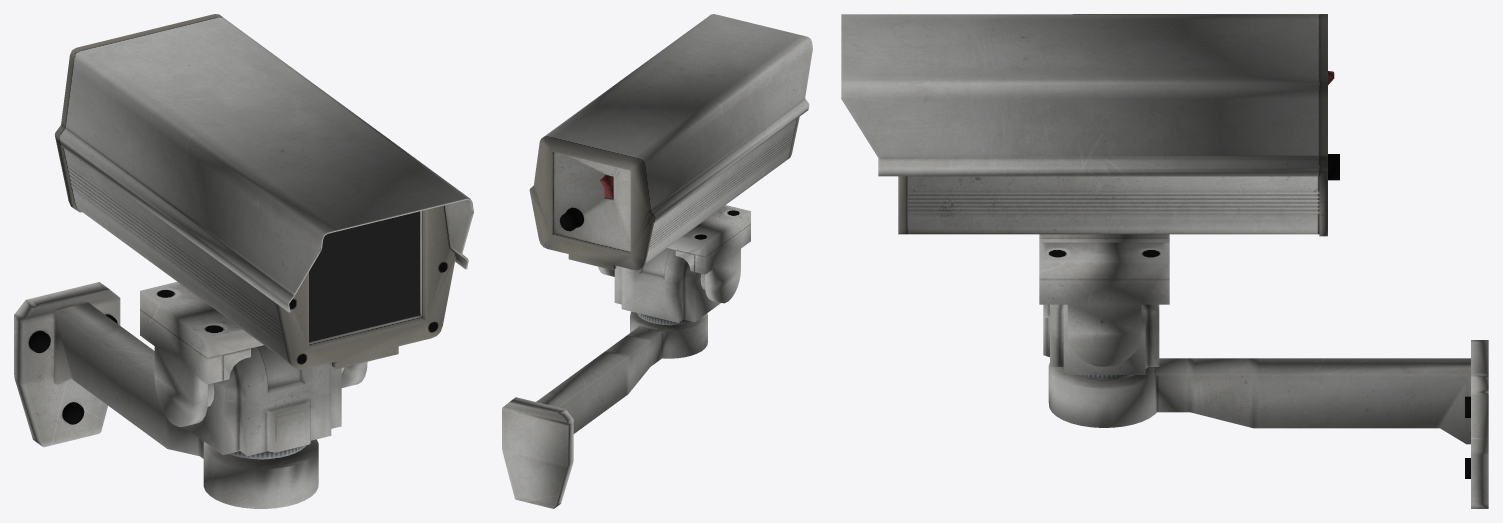
Rendered from CCTV Camera Low-poly 3D model.obj.
3 renders of one model, left to right at view 1: azimuth 30°, elevation 25°; view 2: azimuth 150°, elevation 25°; view 3: azimuth 270°, elevation 25°, orthographic. The views are drawn at different scales.
Parts seen in each view (by area): view 1: desirefx_me_003, desirefx_me_002, desirefx_me_005, desirefx_me_004; view 2: desirefx_me_003, desirefx_me_002, desirefx_me_005; view 3: desirefx_me_003, desirefx_me_002, desirefx_me_005.
Part boxes in pixels (x1,y1,x2,y2): desirefx_me_003: (55,14,473,426); desirefx_me_002: (14,282,318,508); desirefx_me_005: (184,345,341,456); desirefx_me_004: (309,211,419,342); desirefx_me_003: (529,14,812,303); desirefx_me_002: (502,311,707,508); desirefx_me_005: (614,248,720,322); desirefx_me_003: (841,14,1339,366); desirefx_me_002: (1048,340,1488,508); desirefx_me_005: (1043,304,1159,374).
Bounding box in the file's own units: 31.33 × 76.48 × 100.
